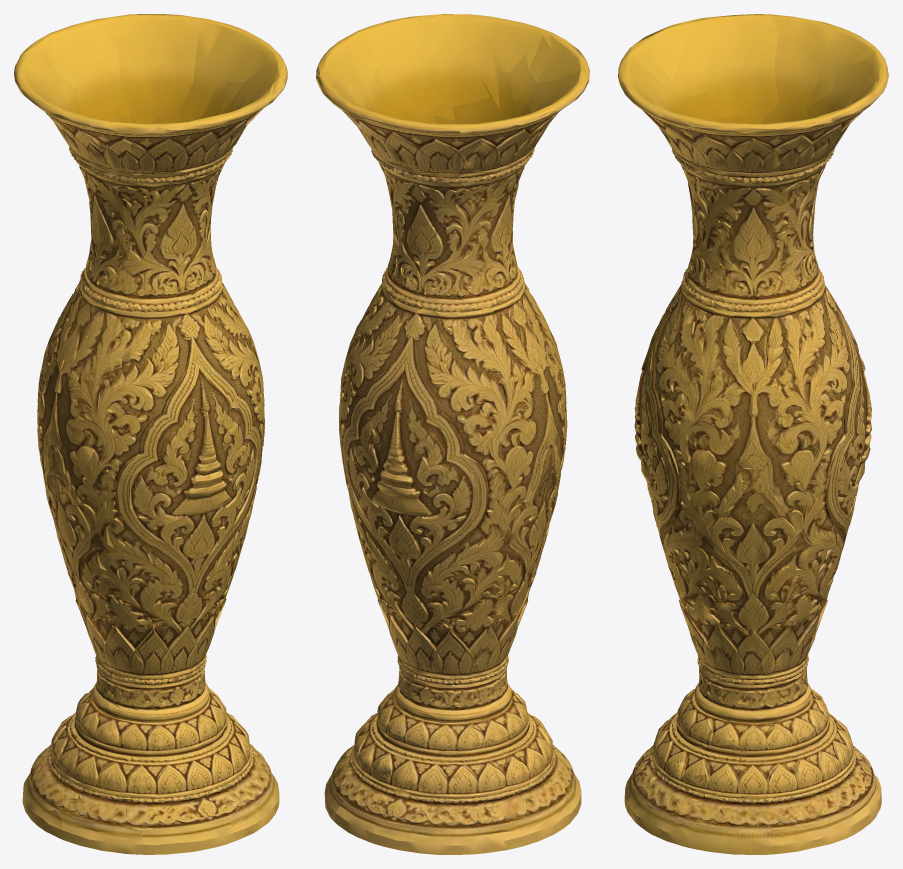
Rendered from vase.glb.
3 renders of one model, left to right at view 1: azimuth 30°, elevation 25°; view 2: azimuth 150°, elevation 25°; view 3: azimuth 270°, elevation 25°, orthographic.
Bounding box in the file's own units: 0.6395 × 1.9 × 0.6381.
Materials: 1 (1 with a texture image).
